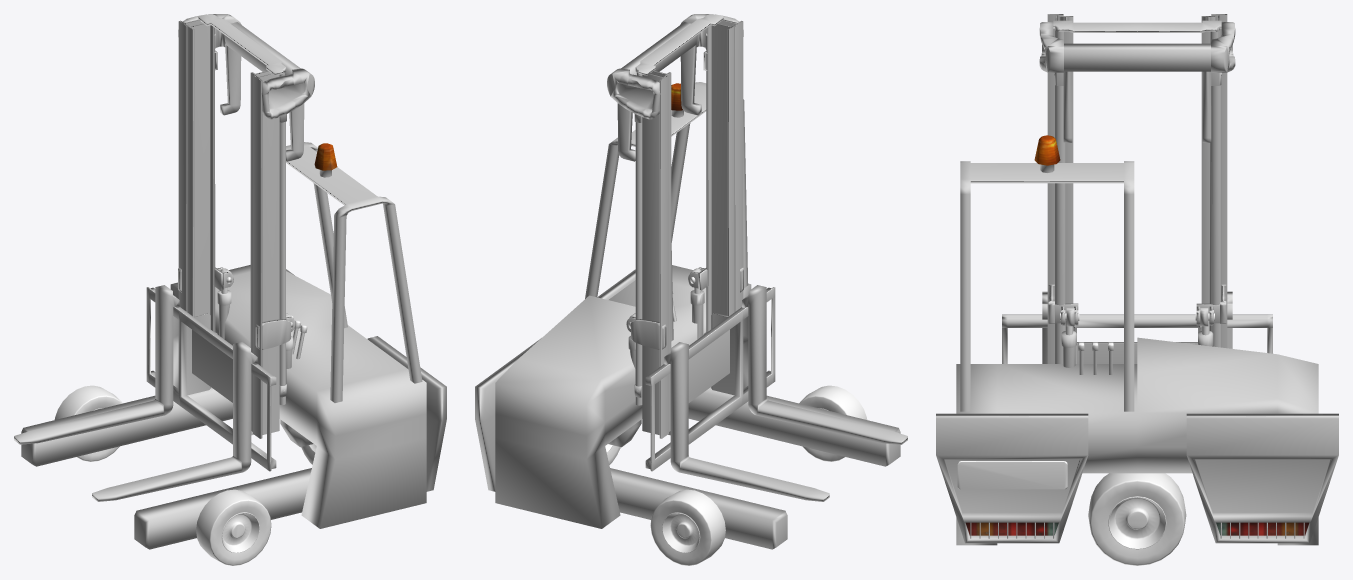
File: forklift.fbx
The picture shows the model from 3 angles, left to right: view 1: azimuth 30°, elevation 25°; view 2: azimuth 150°, elevation 25°; view 3: azimuth 270°, elevation 25°; orthographic projection. The views are drawn at different scales.
Visible parts, largest first — view 1: Mesh; view 2: Mesh; view 3: Mesh.
Boxes of the visible parts, x1=… form: Mesh: x1=14, y1=14, x2=446, y2=565; Mesh: x1=475, y1=14, x2=907, y2=565; Mesh: x1=936, y1=14, x2=1338, y2=565.
Bounding box in the file's own units: 159 × 228 × 169.
